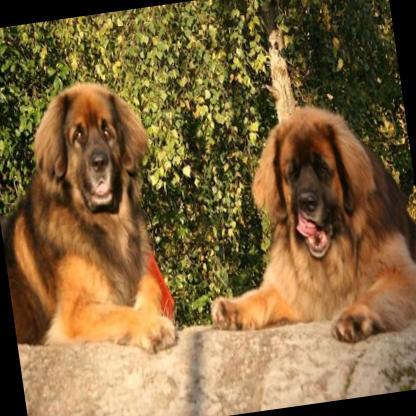Leonberg: (181, 89, 416, 361), (0, 73, 179, 375)
